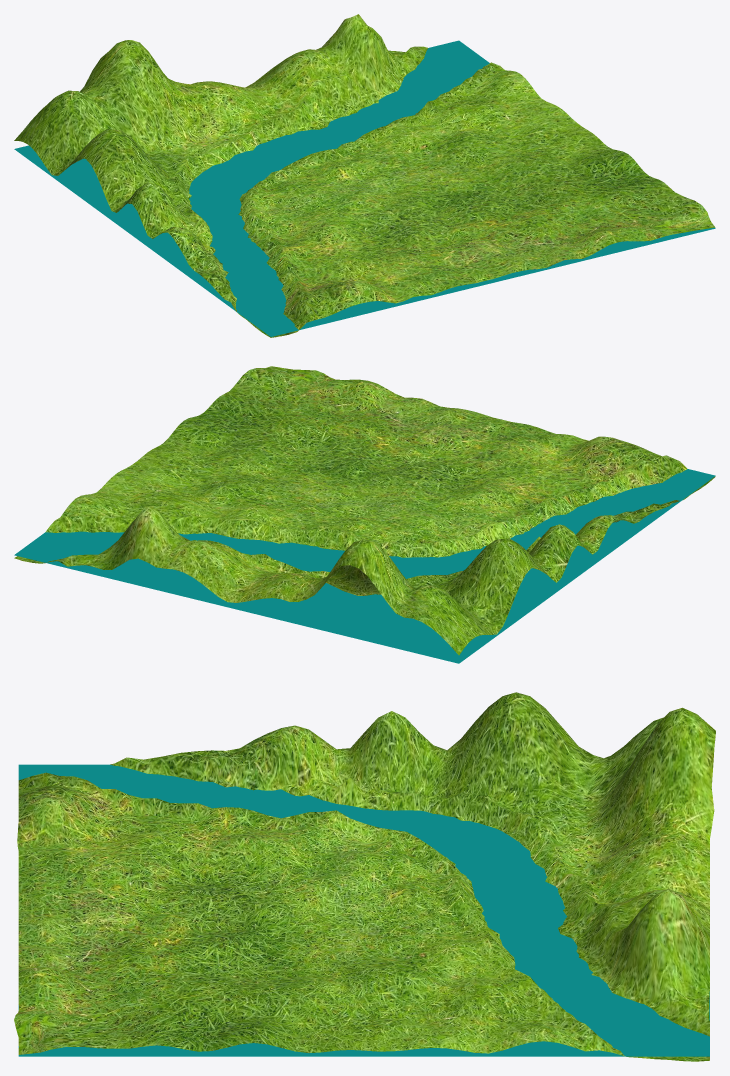
Rendered from Main_Ground_Final.fbx.
3 renders of one model, top to bottom at view 1: azimuth 30°, elevation 25°; view 2: azimuth 150°, elevation 25°; view 3: azimuth 270°, elevation 25°, orthographic. The views are drawn at different scales.
Visible parts, largest first — view 1: Plane001, Plane002; view 2: Plane001, Plane002; view 3: Plane001, Plane002.
Boxes of the visible parts, box(x1,y1,x2,y2) form: Plane001: box(14, 14, 715, 337); Plane002: box(14, 40, 715, 336); Plane001: box(14, 366, 715, 655); Plane002: box(14, 469, 715, 663); Plane001: box(14, 692, 715, 1061); Plane002: box(18, 764, 709, 1056).
Size of the model in its own units: 504 by 106 by 508.
Materials: 2 (1 with a texture image).
